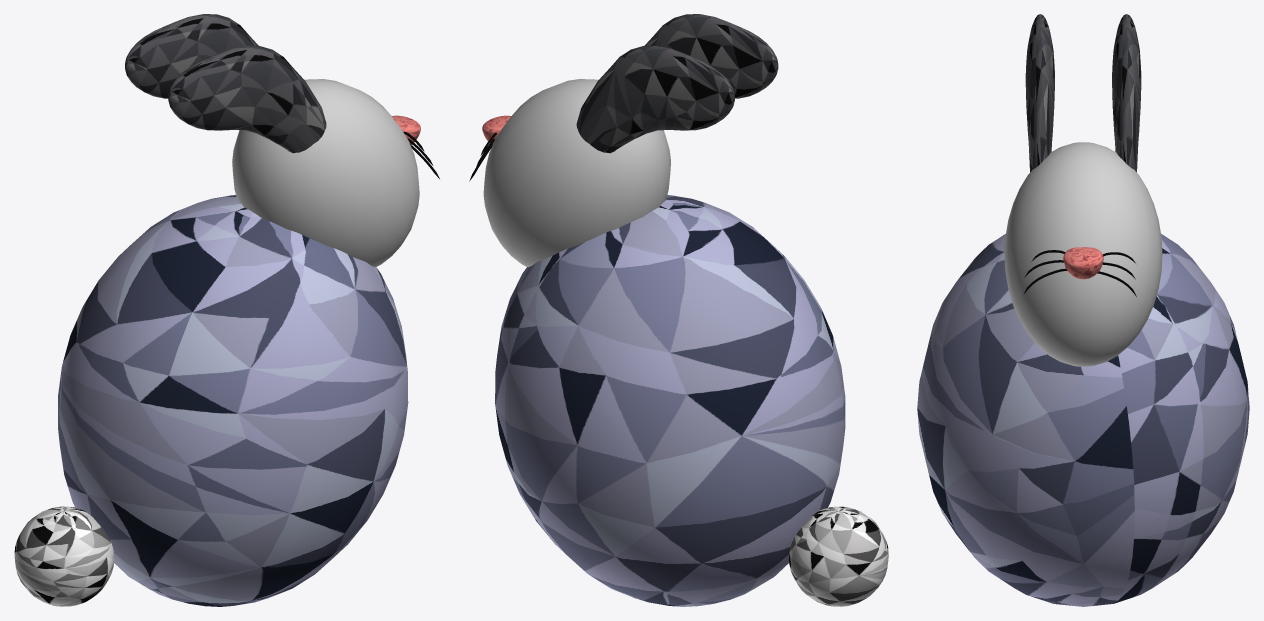
The model's file is Super test.fbx.
3 views of the same model, side by side, from view 1: azimuth 30°, elevation 25°; view 2: azimuth 150°, elevation 25°; view 3: azimuth 270°, elevation 25° (orthographic).
Parts seen in each view (by area): view 1: polySurface91; view 2: polySurface91; view 3: polySurface91.
Part boxes in pixels (bbox=[...]): polySurface91: bbox=[14, 14, 439, 606]; polySurface91: bbox=[469, 14, 888, 606]; polySurface91: bbox=[917, 14, 1249, 606].
Bounding box in the file's own units: 1.51 × 2.05 × 1.1.
